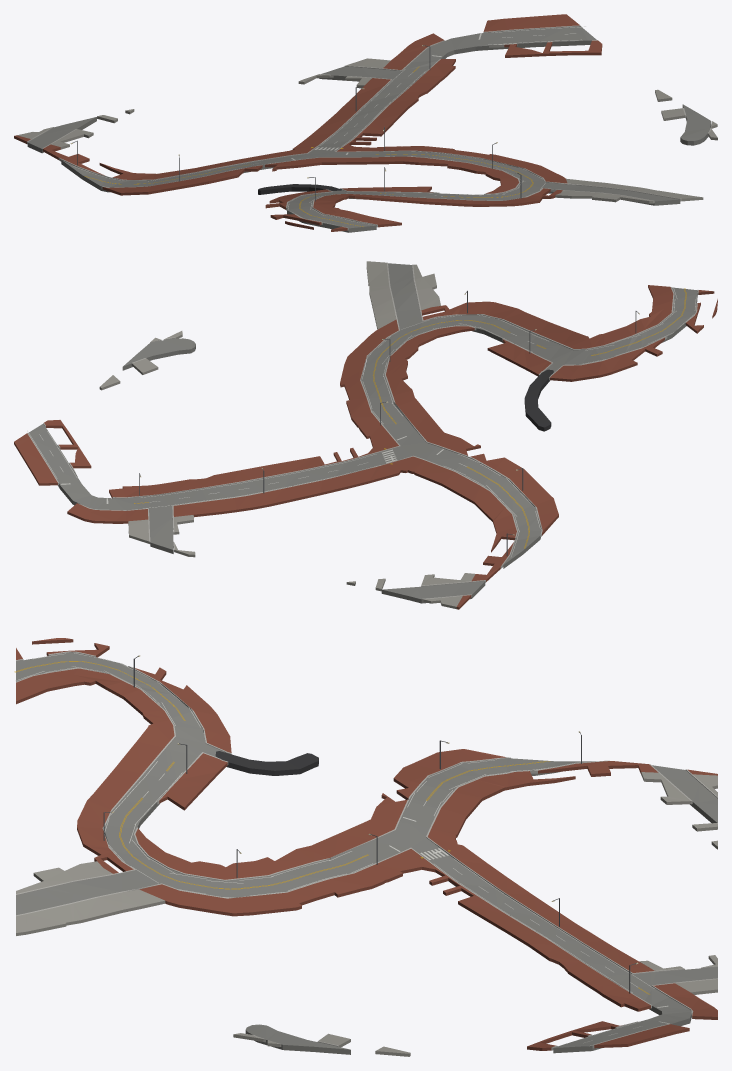
3 views of the same model, one above another, from view 1: azimuth 30°, elevation 25°; view 2: azimuth 150°, elevation 25°; view 3: azimuth 270°, elevation 25° (orthographic). The views are drawn at different scales.
Bounding box in the file's own units: 148 × 38.67 × 146.
